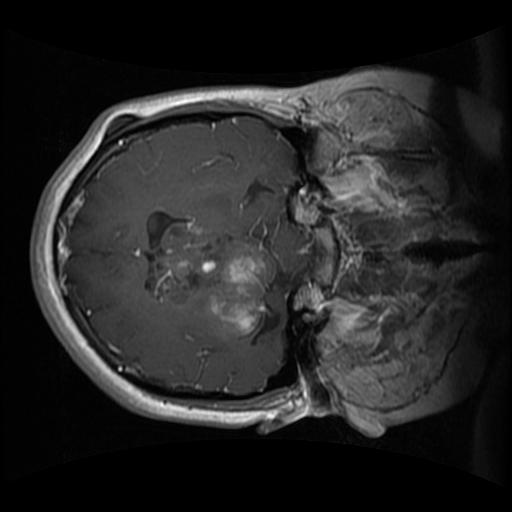glioma: (141, 208, 275, 346)
